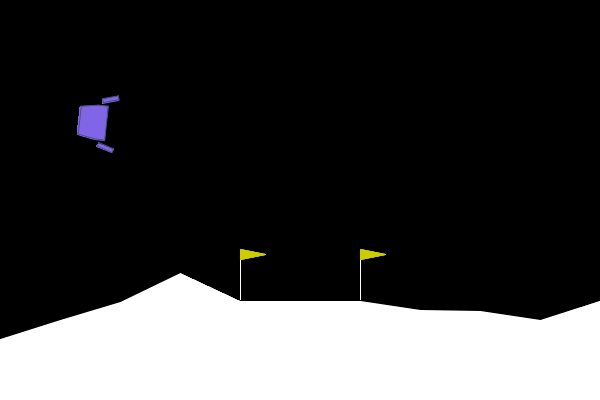lander: (74, 91, 120, 155)
